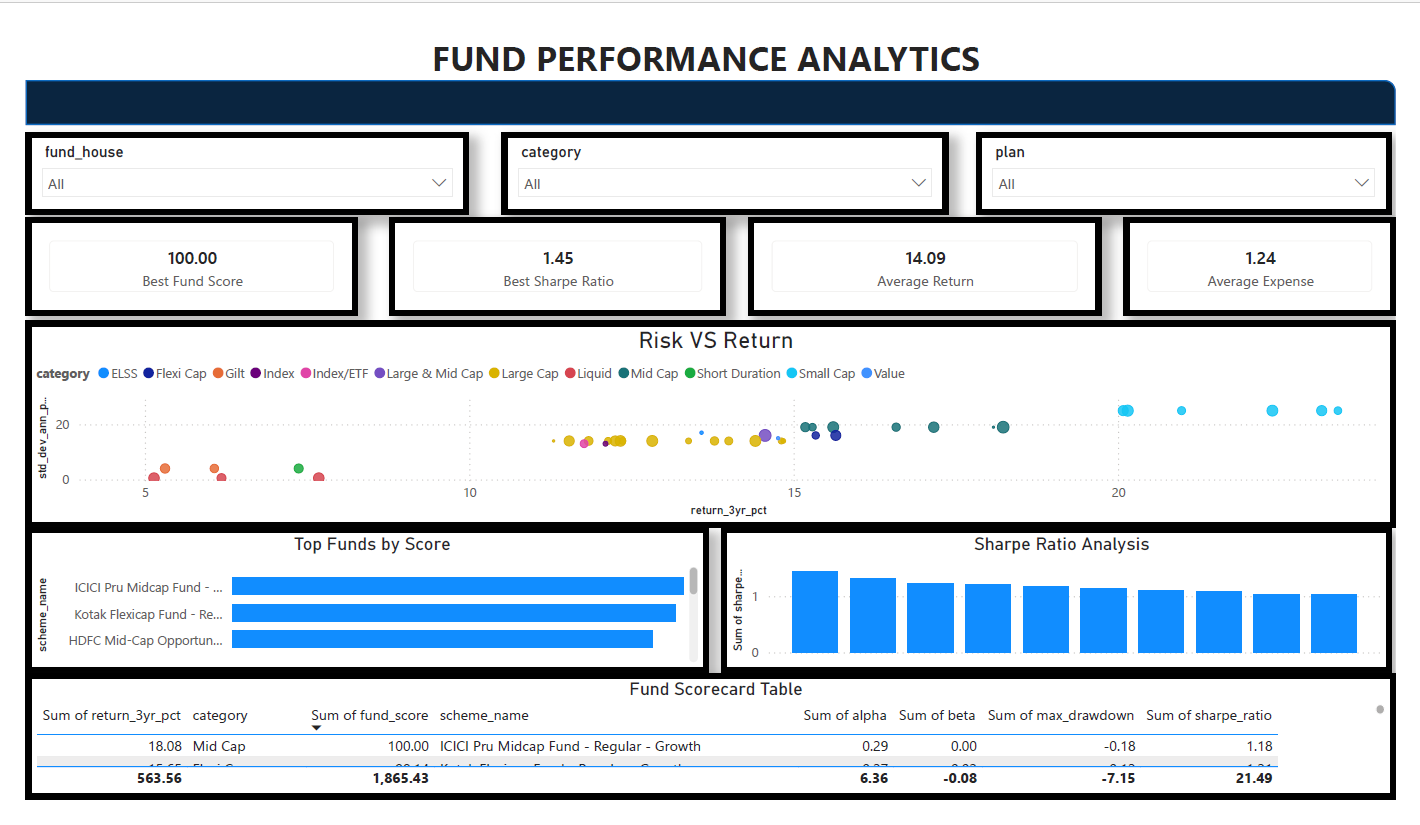

What the dashboard file says about the page in this screenshot:
{"tool":"powerbi","page":{"name":"Fund Performance","canvas":[1280,720],"ordinal":1},"visuals":[{"type":"textbox","box":[0,0,1280,58],"z":0},{"type":"shape","box":[0,47.7,1280,42.3],"z":1000},{"type":"slicer","fields":{"Values":["fund_scorecard.fund_house"]},"box":[0,96.9,413.8,76.9],"z":2000},{"type":"slicer","fields":{"Values":["fund_scorecard.category"]},"box":[445.4,96.9,416.2,76.9],"z":3000},{"type":"slicer","fields":{"Values":["fund_scorecard.plan"]},"box":[888.5,96.9,387.7,76.9],"z":4000},{"type":"cardVisual","fields":{"Data":["03_aum_by_fund_house.Best Fund Score"]},"box":[0,176.2,310,91.5],"z":5000},{"type":"cardVisual","fields":{"Data":["03_aum_by_fund_house.Average Expense"]},"box":[1026.2,176.2,253.8,91.5],"z":6000},{"type":"cardVisual","fields":{"Data":["03_aum_by_fund_house.Best Sharpe Ratio"]},"box":[340,176.2,313.8,91.5],"z":7000},{"type":"cardVisual","fields":{"Data":["03_aum_by_fund_house.Average Return"]},"box":[674.6,176.2,330,91.5],"z":8000},{"type":"scatterChart","title":"Risk VS Return","fields":{"X":["fund_scorecard.return_3yr_pct"],"Y":["fund_scorecard.std_dev_ann_pct"],"Series":["fund_scorecard.category"],"Size":["Sum(fund_scorecard.aum_crore)"]},"box":[0,273.1,1280,193.1],"z":9000},{"type":"barChart","title":"Top Funds by Score","fields":{"Category":["fund_scorecard.scheme_name"],"Y":["Sum(fund_scorecard.fund_score)"]},"box":[0,466.2,637.7,136.2],"z":10000},{"type":"columnChart","title":"Sharpe Ratio Analysis","fields":{"Category":["fund_scorecard.scheme_name"],"Y":["Sum(sharpe_values.sharpe_ratio)"]},"box":[650,466.2,626.2,136.2],"z":11000},{"type":"tableEx","title":"Fund Scorecard Table","fields":{"Values":["Sum(fund_scorecard.return_3yr_pct)","fund_scorecard.category","Sum(fund_scorecard.fund_score)","fund_scorecard.scheme_name","Sum(alpha_beta.alpha)","Sum(alpha_beta.beta)","Sum(fund_scorecard.max_drawdown)","Sum(sharpe_values.sharpe_ratio)"]},"box":[0,602.3,1280,117.7],"z":12000}]}

Visuals, with their boxes on the page's 1280x720 design canvas (x1, y1, x2, y2). These are canvas units, not pixel positions in the 1420x825 screenshot, which may show the page scaled, cropped or inside an application window:
textbox: <region>0, 0, 1280, 58</region>
shape: <region>0, 48, 1280, 90</region>
slicer - fund_scorecard.fund_house: <region>0, 97, 414, 174</region>
slicer - fund_scorecard.category: <region>445, 97, 862, 174</region>
slicer - fund_scorecard.plan: <region>888, 97, 1276, 174</region>
cardVisual - 03_aum_by_fund_house.Best Fund Score: <region>0, 176, 310, 268</region>
cardVisual - 03_aum_by_fund_house.Average Expense: <region>1026, 176, 1280, 268</region>
cardVisual - 03_aum_by_fund_house.Best Sharpe Ratio: <region>340, 176, 654, 268</region>
cardVisual - 03_aum_by_fund_house.Average Return: <region>675, 176, 1005, 268</region>
"Risk VS Return" scatterChart: <region>0, 273, 1280, 466</region>
"Top Funds by Score" barChart: <region>0, 466, 638, 602</region>
"Sharpe Ratio Analysis" columnChart: <region>650, 466, 1276, 602</region>
"Fund Scorecard Table" tableEx: <region>0, 602, 1280, 720</region>
